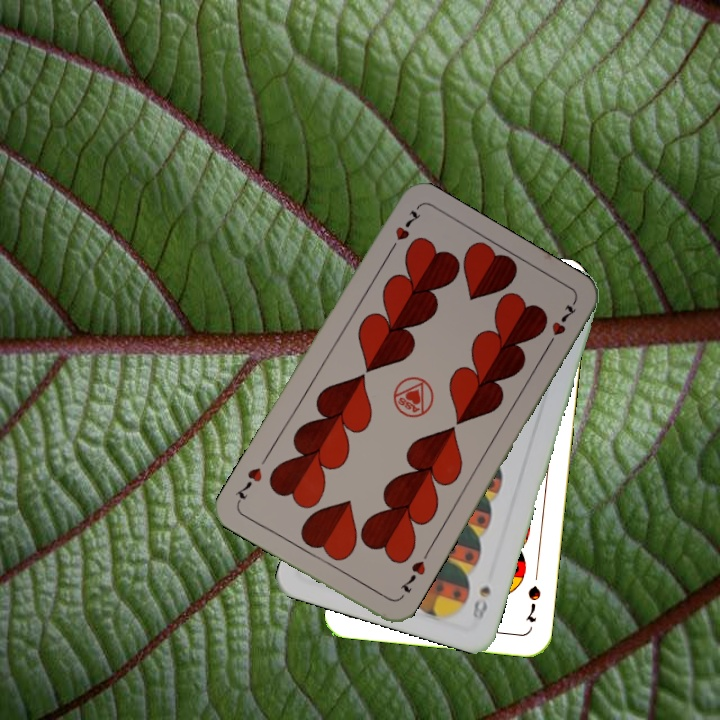H7: (384, 206, 424, 257), (396, 556, 428, 596)
S7: (522, 581, 543, 625)
S8: (468, 582, 493, 623)
